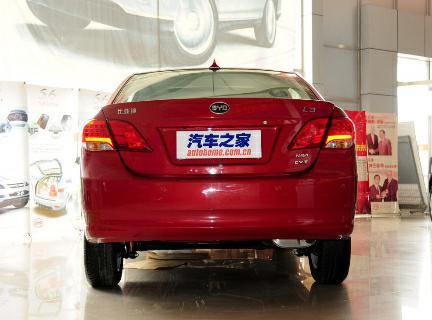比亚迪-L3: (75, 65, 360, 291)
